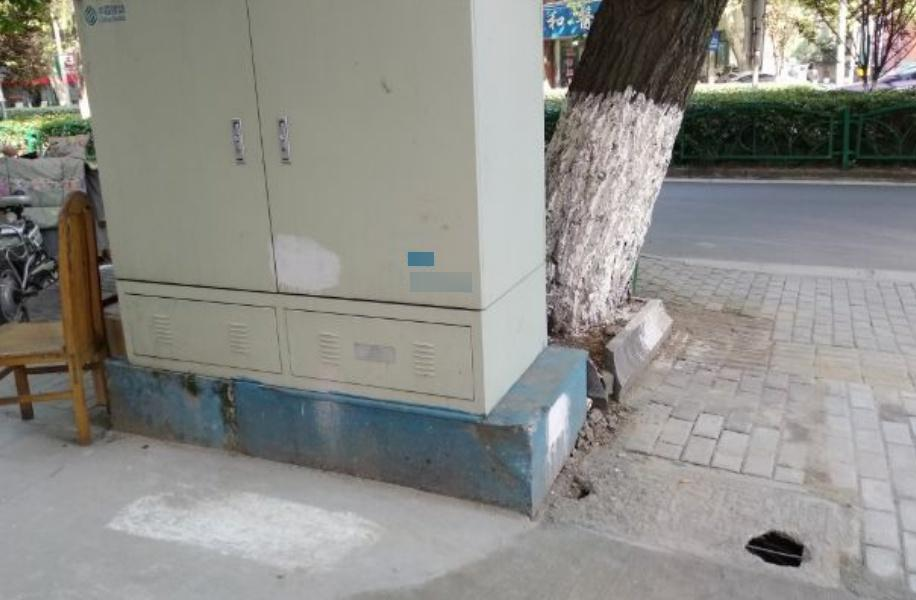wellcover: (529, 429, 861, 600)
